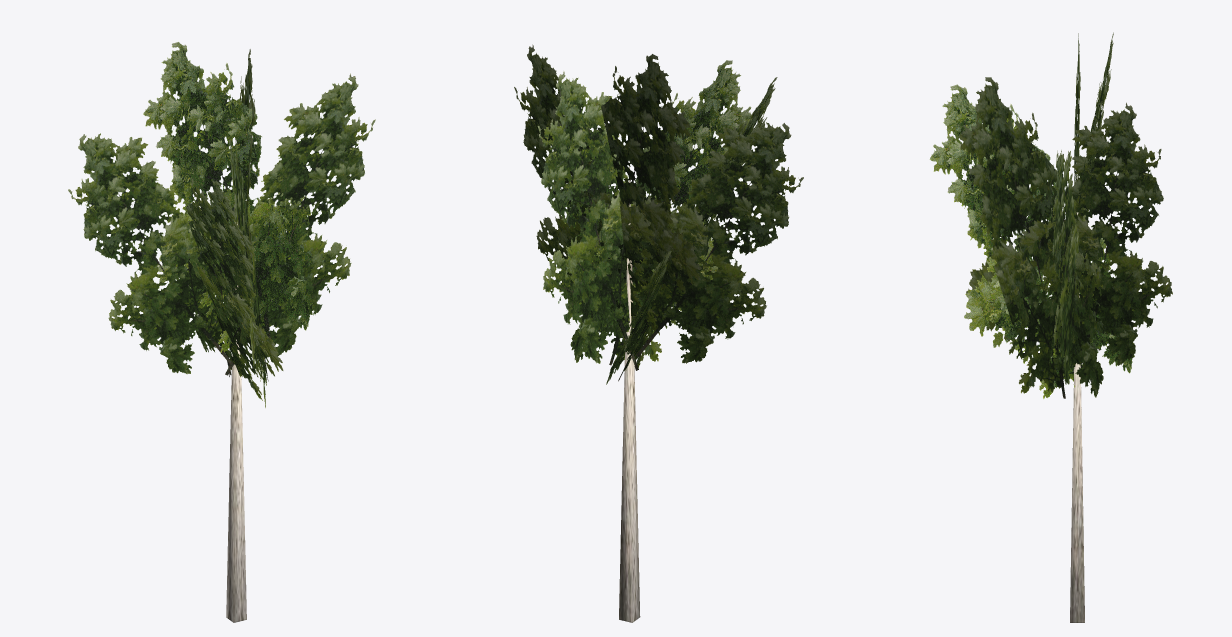
The model's file is Deco_Tree_Maple.fbx.
3 views of the same model, side by side, from view 1: azimuth 30°, elevation 25°; view 2: azimuth 150°, elevation 25°; view 3: azimuth 270°, elevation 25° (orthographic). The views are drawn at different scales.
Visible parts, largest first — view 1: Prop_Tree_Maple; view 2: Prop_Tree_Maple; view 3: Prop_Tree_Maple.
Part boxes in pixels (x1,y1,x2,y2): Prop_Tree_Maple: (68, 42, 375, 622); Prop_Tree_Maple: (514, 44, 803, 622); Prop_Tree_Maple: (929, 32, 1172, 622).
Bounding box in the file's own units: 6.03 × 4.28 × 8.35.
